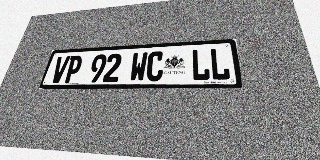2: (102, 53, 122, 82)
9: (87, 54, 108, 82)
C: (145, 51, 164, 82)
L: (209, 48, 231, 80), (191, 49, 210, 81)
P: (63, 55, 84, 83)
V: (49, 56, 70, 83)
W: (129, 52, 148, 82)
